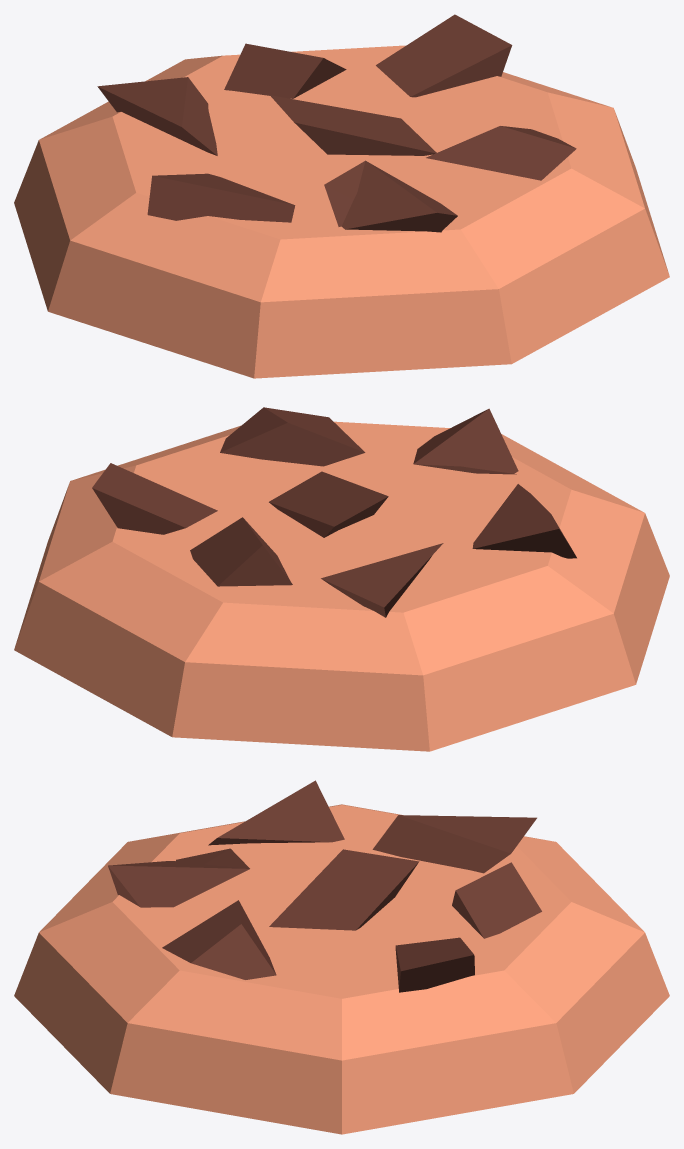
Rendered from CookieChocolate.fbx.
3 renders of one model, top to bottom at view 1: azimuth 30°, elevation 25°; view 2: azimuth 150°, elevation 25°; view 3: azimuth 270°, elevation 25°, orthographic. The views are drawn at different scales.
Visible parts, largest first — view 1: CookieChocolate; view 2: CookieChocolate; view 3: CookieChocolate.
Boxes of the visible parts, left/top/right/bottom form: CookieChocolate: left=14, top=14, right=669, bottom=378; CookieChocolate: left=14, top=407, right=669, bottom=751; CookieChocolate: left=14, top=780, right=669, bottom=1134.
Bounding box in the file's own units: 49.15 × 10.72 × 49.15.
